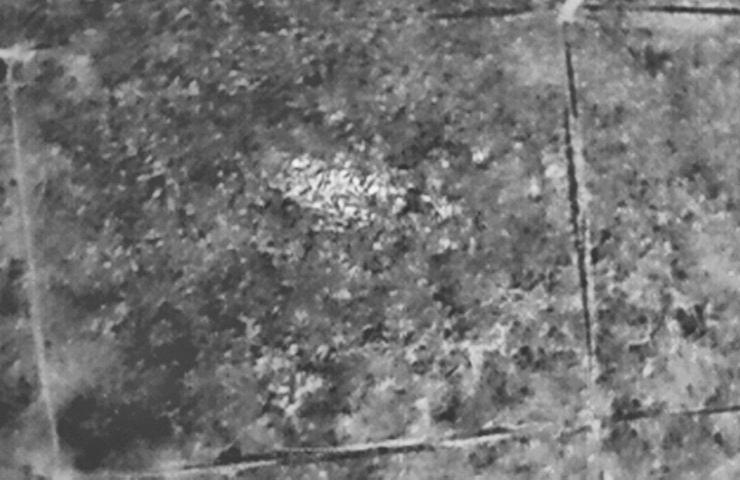landmines: (279, 152, 411, 233)
